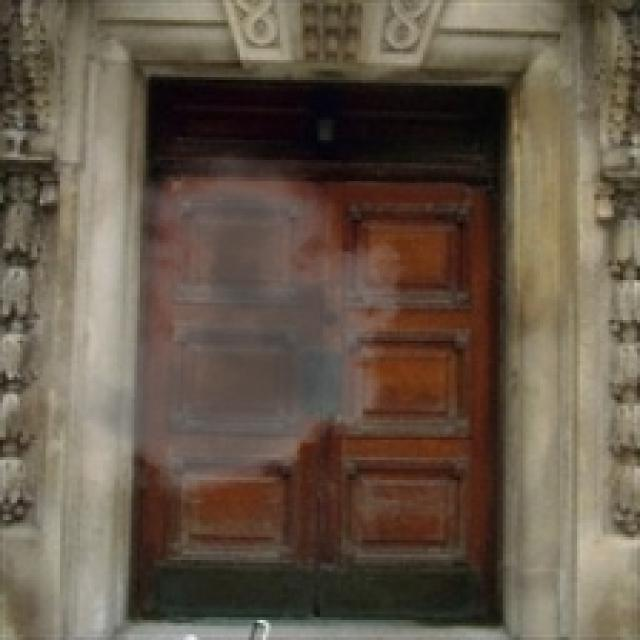smoke: (6, 152, 423, 512)
